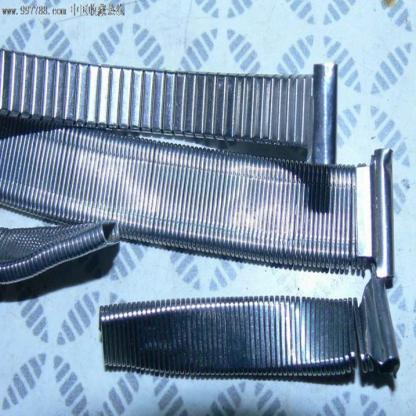FOD: (97, 278, 401, 382)
